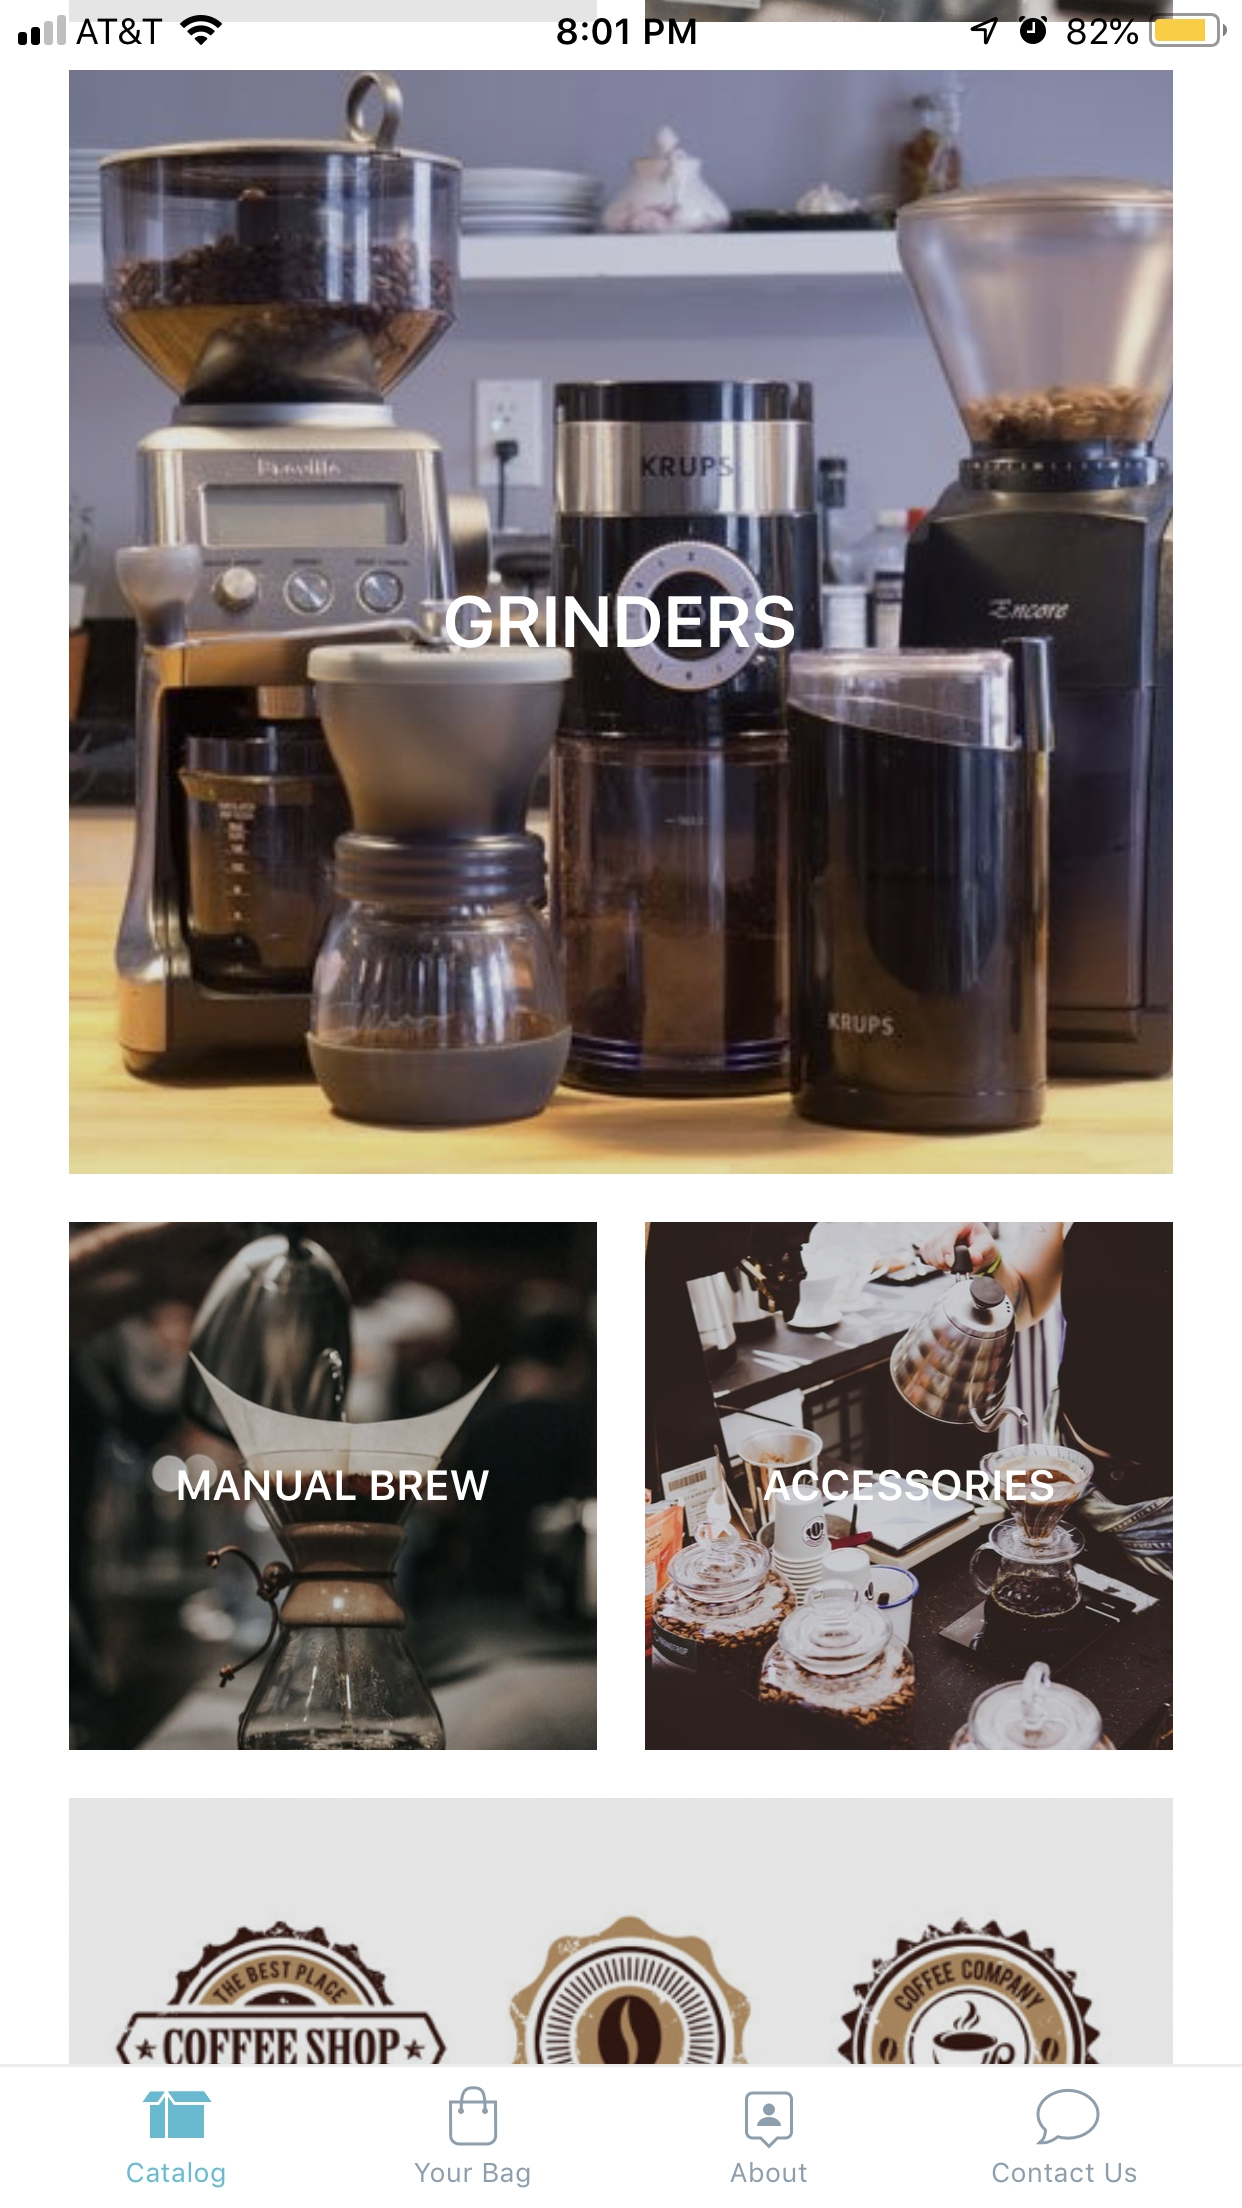Icon: (1036, 2088, 1101, 2144), (449, 2087, 499, 2147), (745, 2090, 795, 2149)
Image: (70, 70, 1174, 1175), (70, 1797, 1174, 2064), (645, 1222, 1174, 1752), (68, 1221, 594, 1749), (143, 2090, 212, 2138)
Text: (446, 594, 796, 651), (177, 1469, 488, 1501), (763, 1469, 1054, 1501), (992, 2163, 1137, 2184), (414, 2163, 531, 2188), (127, 2161, 226, 2188), (729, 2161, 808, 2184)
UpperTaskBar: (2, 2, 1242, 49)
